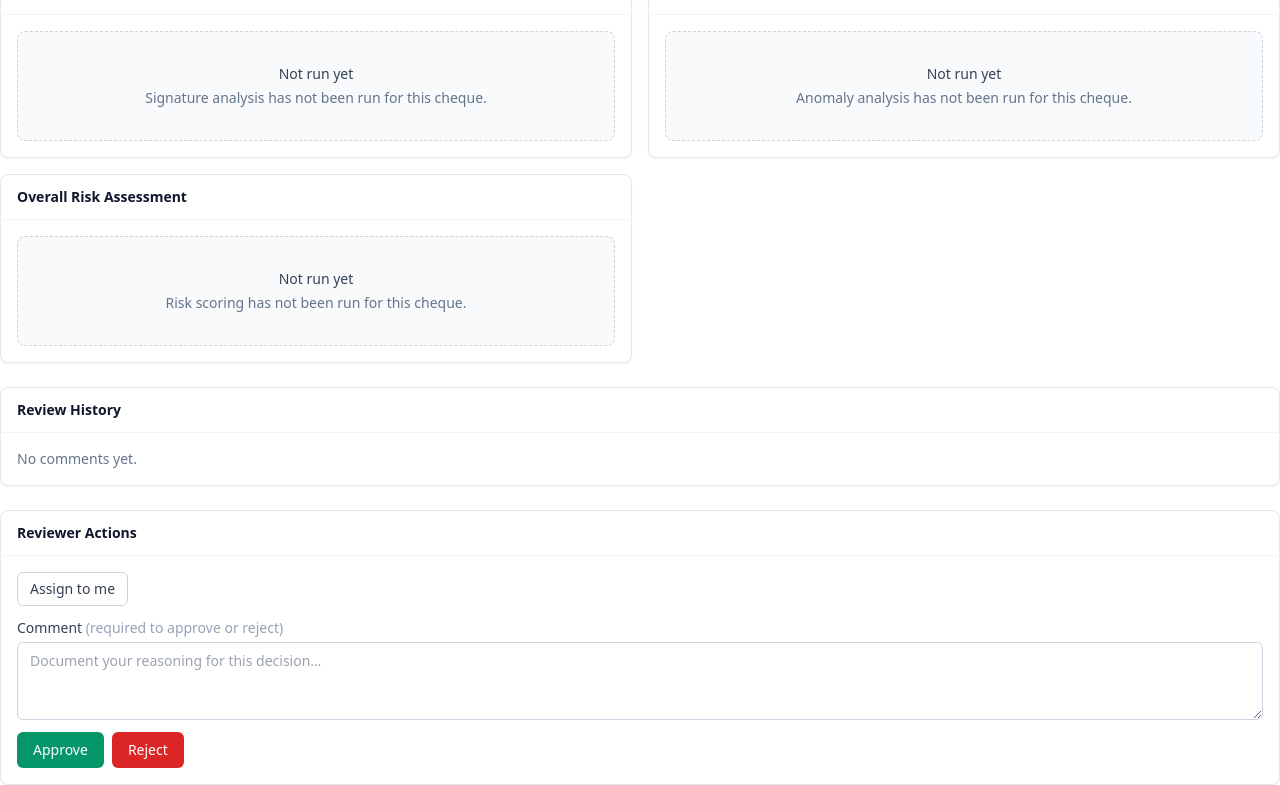
Test: ReviewDetailPage › submits a decision with a comment and reflects the backend's response
(page scrolled)
Expected: the button "Approve" is shown, [17,732,104,768]
Type "Verified manually." into the text box labelled "Comment (required to approve or reject)".
click(640, 681); type("Verified manually.")  # box [17,642,1263,720]
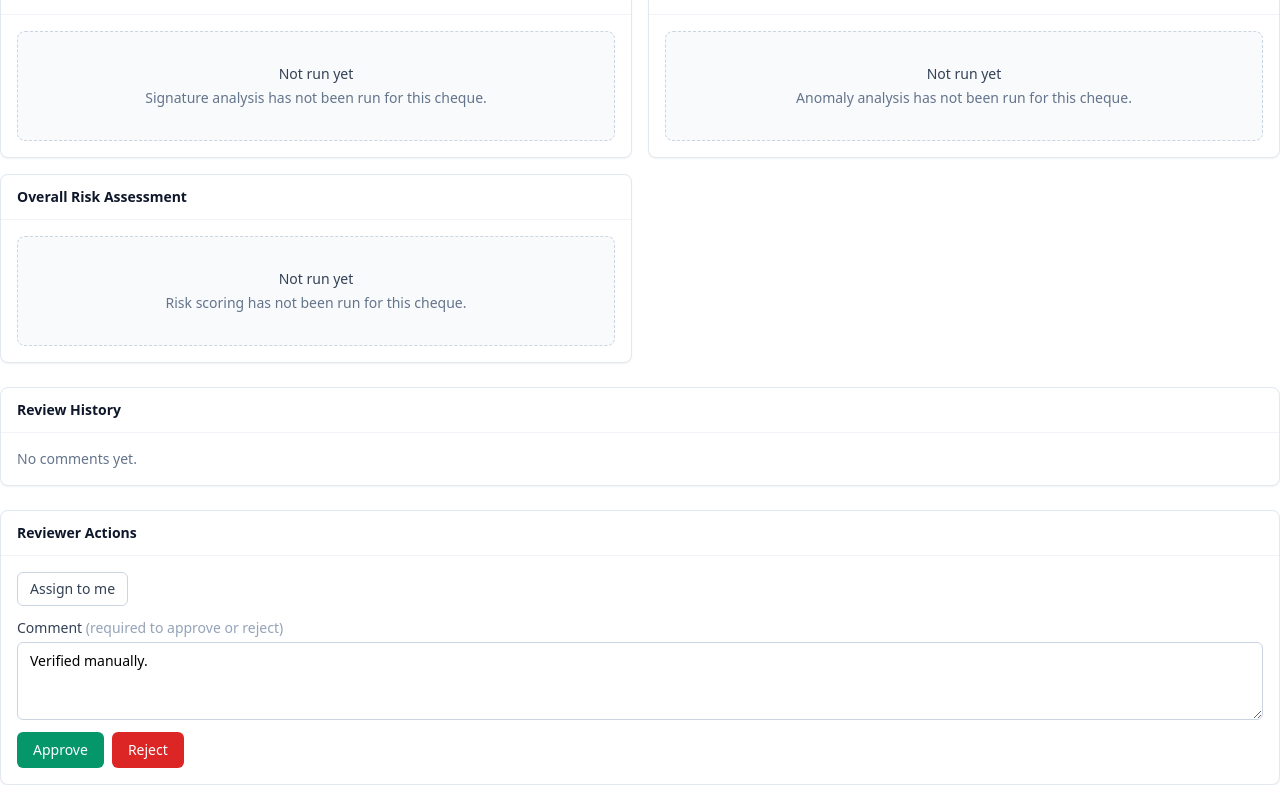
Click the button "Approve".
click(60, 750)  # box [17,732,104,768]
(page scrolled)
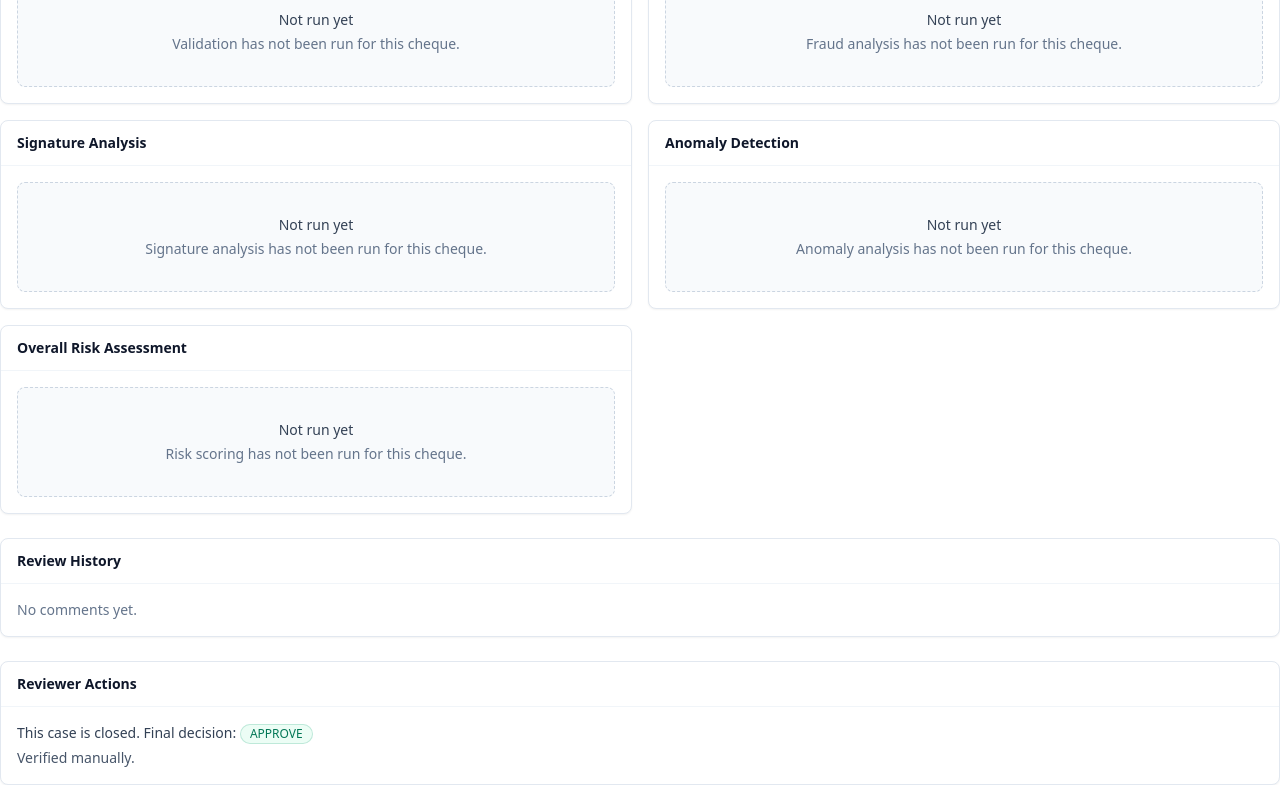
Now the text "This case is closed. Final decision: APPROVE" is shown, box [17,723,313,744]
